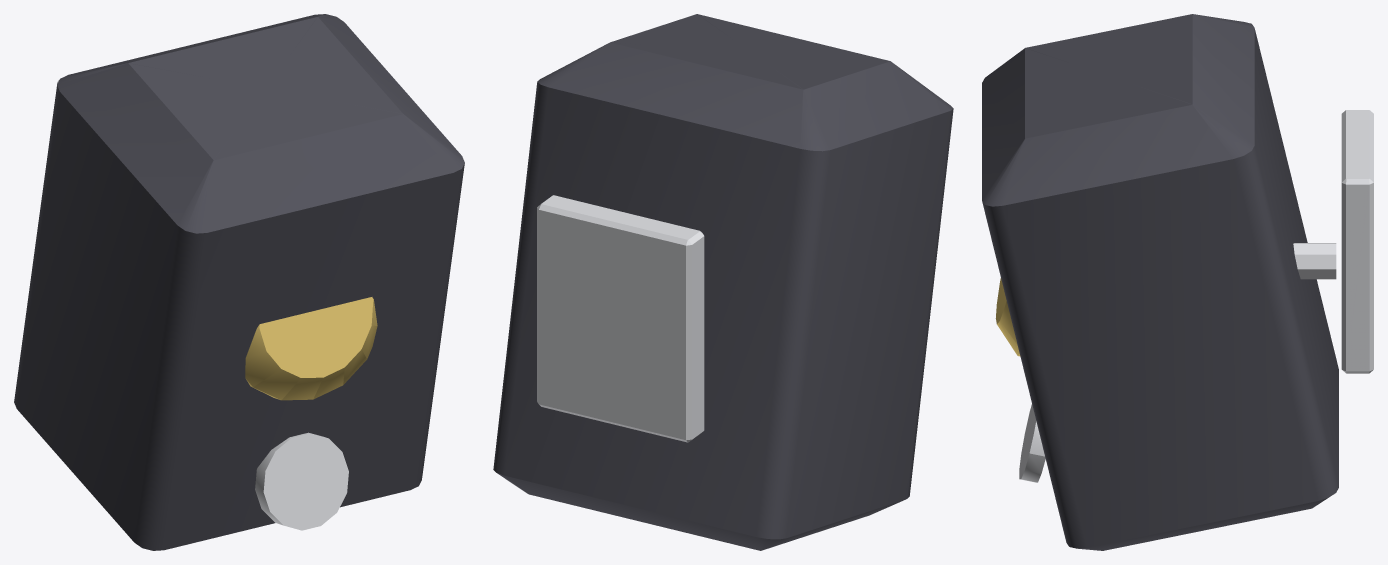
The model's file is cinema-multiplex-and-foyer-wall-speaker-on-mount-ac24c00d.glb.
3 renders of one model, left to right at view 1: azimuth 30°, elevation 25°; view 2: azimuth 150°, elevation 25°; view 3: azimuth 270°, elevation 25°, orthographic. The views are drawn at different scales.
Parts seen in each view (by area): view 1: wall-speaker-on-mount; view 2: wall-speaker-on-mount; view 3: wall-speaker-on-mount.
Boxes of the visible parts, x1,y1,x2,y2 form: wall-speaker-on-mount: (14,14,464,550); wall-speaker-on-mount: (493,14,953,550); wall-speaker-on-mount: (982,14,1373,550).
Bounding box in the file's own units: 0.3 × 0.4492 × 0.3648.
